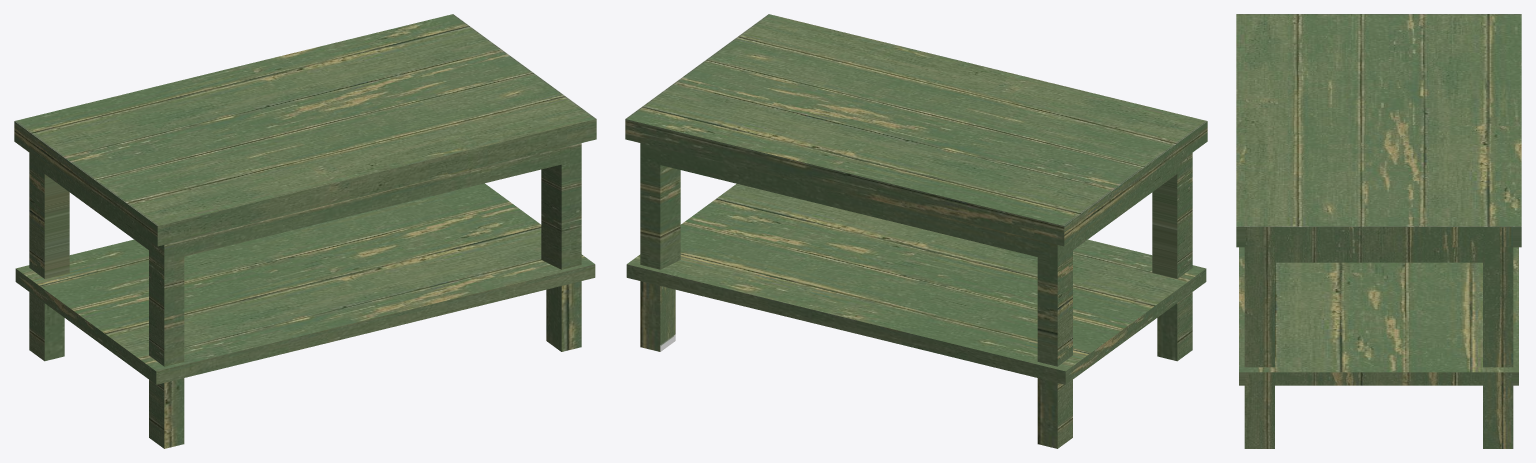
The model's file is FlatOverStore 1.fbx.
3 renders of one model, left to right at view 1: azimuth 30°, elevation 25°; view 2: azimuth 150°, elevation 25°; view 3: azimuth 270°, elevation 25°, orthographic.
Parts seen in each view (by area): view 1: Plane.027; view 2: Plane.027; view 3: Plane.027.
Part boxes in pixels (x1,y1,x2,y2): Plane.027: (14, 14, 596, 448); Plane.027: (625, 14, 1207, 448); Plane.027: (1236, 14, 1521, 448).
Size of the model in its own units: 213 by 106 by 120.
1 material, 1 textured.
